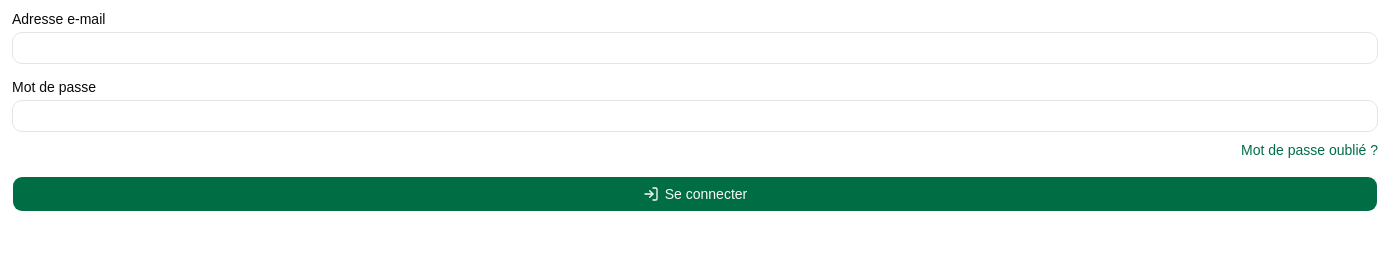
Scenario: LoginForm › shows the server message under the email field when credentials are refused
Type "manager@routier237.test" into the field labelled "Adresse e-mail" at (695, 48), box [12, 32, 1378, 64]
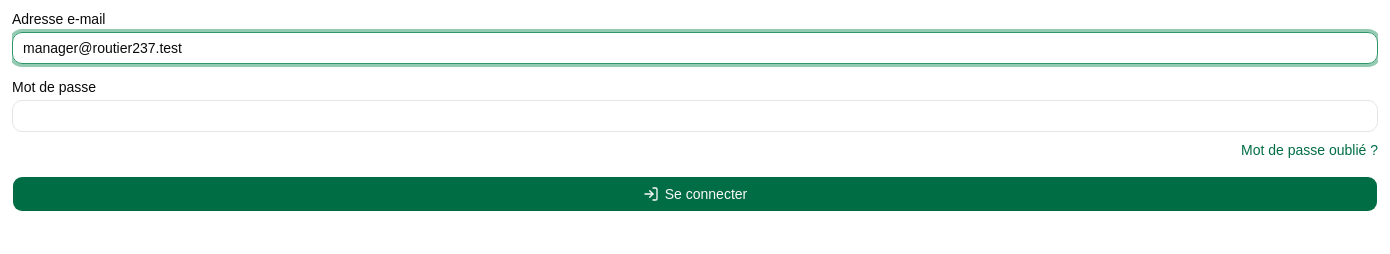
Type "password" into the password field labelled "Mot de passe" at (695, 116), box [12, 100, 1378, 132]
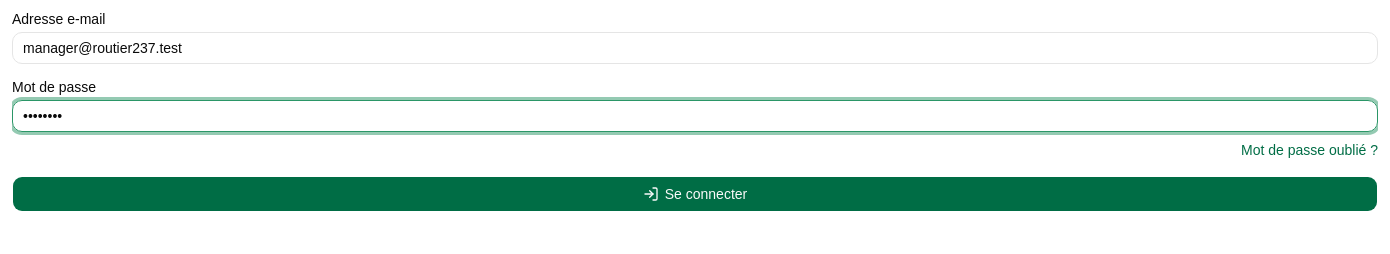
Click the button "Se connecter" at (695, 194), box [12, 176, 1378, 212]
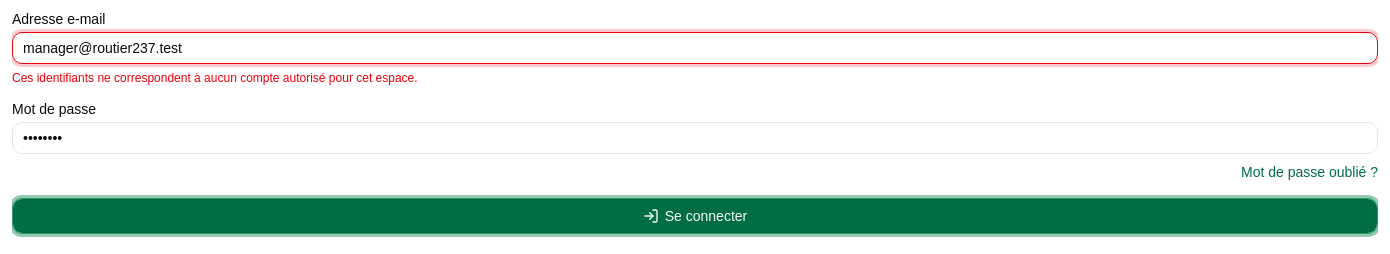
Now the text "Ces identifiants ne correspondent à aucun compte autorisé pour cet espace." is shown, box [12, 71, 418, 85]
